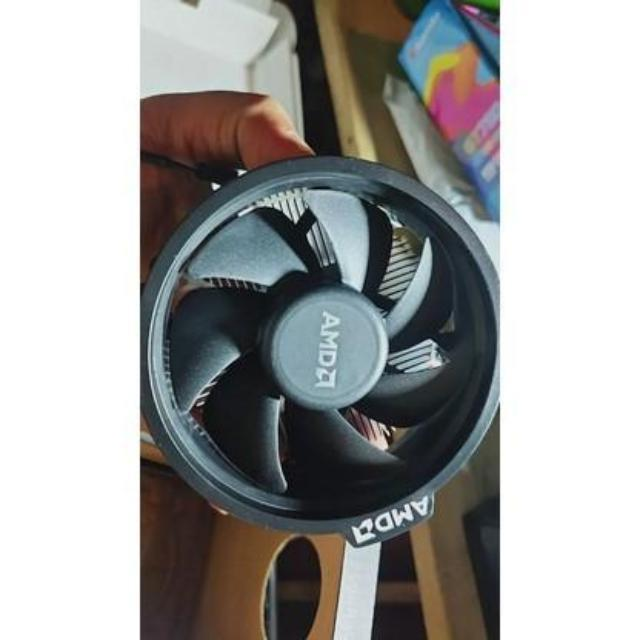CPU_Fan: (144, 157, 498, 546)
